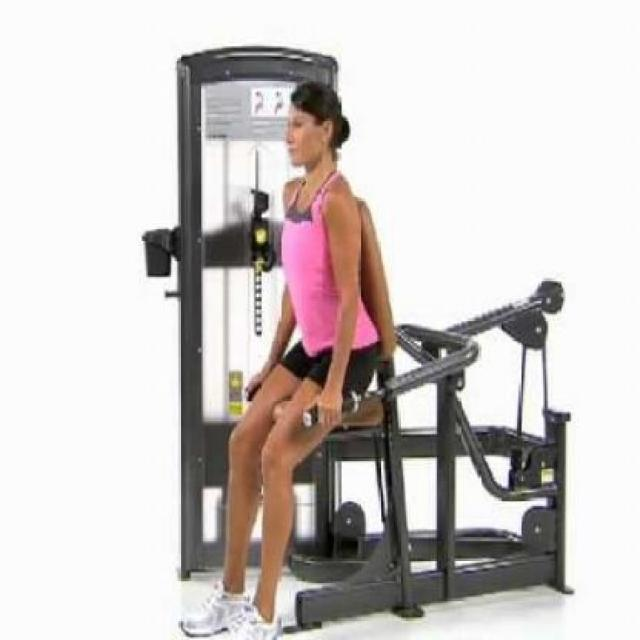seated dip machine: (142, 41, 578, 617)
